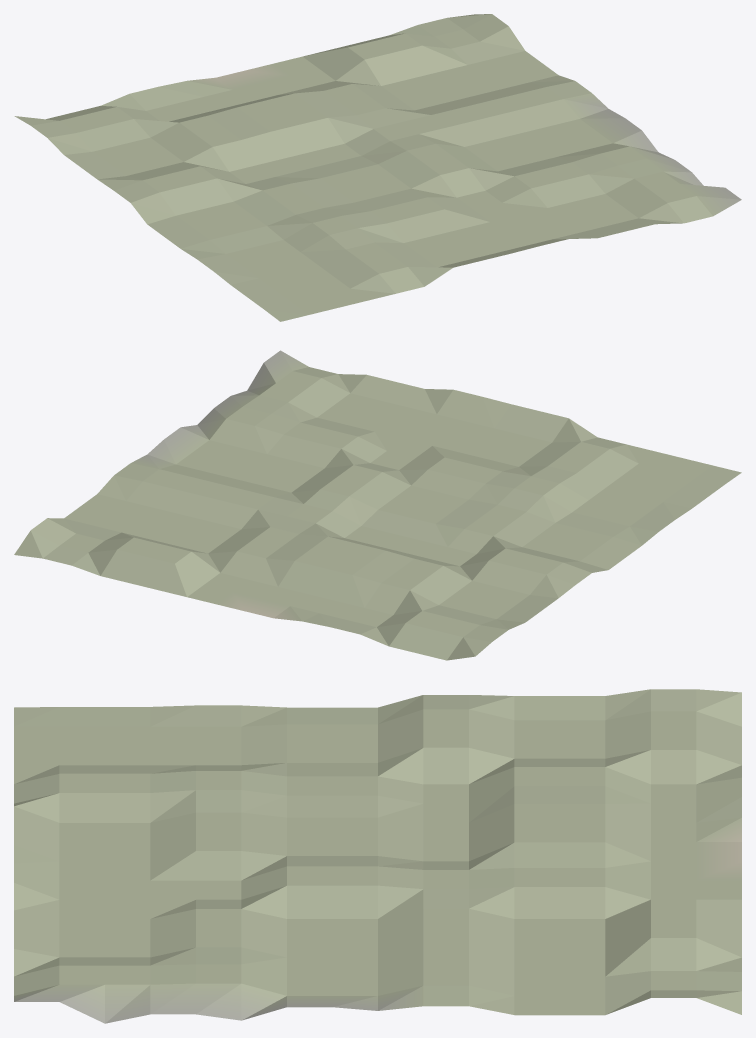
3 renders of one model, top to bottom at view 1: azimuth 30°, elevation 25°; view 2: azimuth 150°, elevation 25°; view 3: azimuth 270°, elevation 25°, orthographic. The views are drawn at different scales.
Bounding box in the file's own units: 32 × 1.36 × 32.
